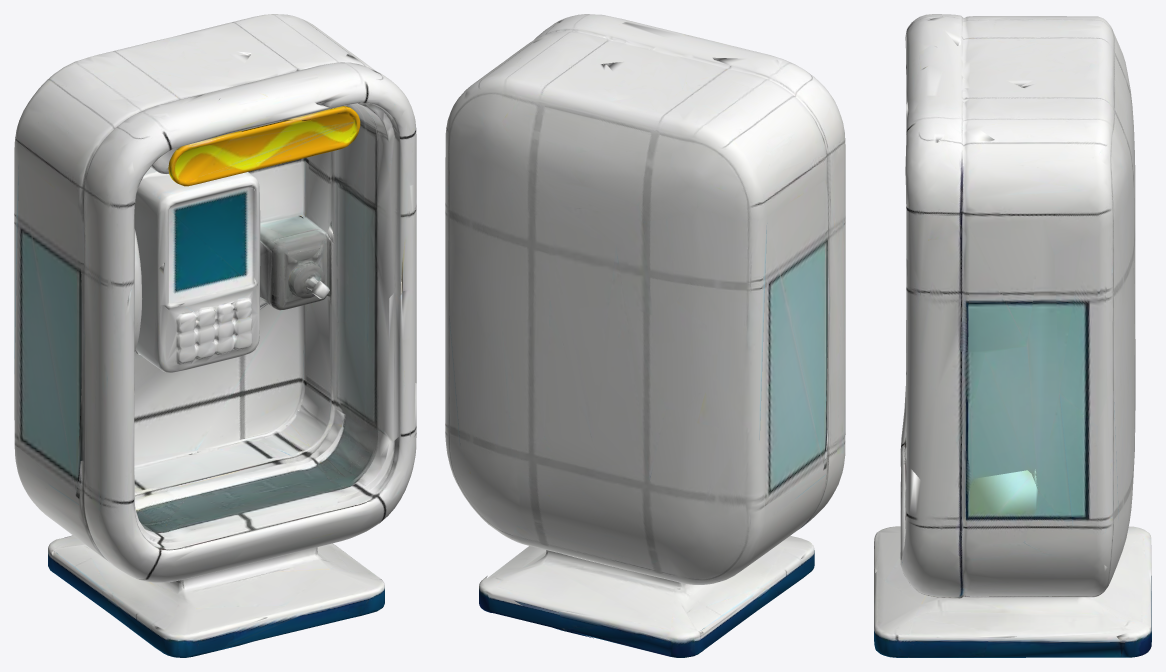
Rendered from phone_booth.glb.
3 renders of one model, left to right at view 1: azimuth 30°, elevation 25°; view 2: azimuth 150°, elevation 25°; view 3: azimuth 270°, elevation 25°, orthographic. The views are drawn at different scales.
Visible parts, largest first — view 1: Mesh_0; view 2: Mesh_0; view 3: Mesh_0.
Part boxes in pixels (box(x1,y1,x2,y2)): Mesh_0: box(14, 14, 416, 657); Mesh_0: box(445, 14, 845, 657); Mesh_0: box(874, 14, 1151, 657).
Bounding box in the file's own units: 1.15 × 1.8 × 0.8392.
Materials: 1 (1 with a texture image).
